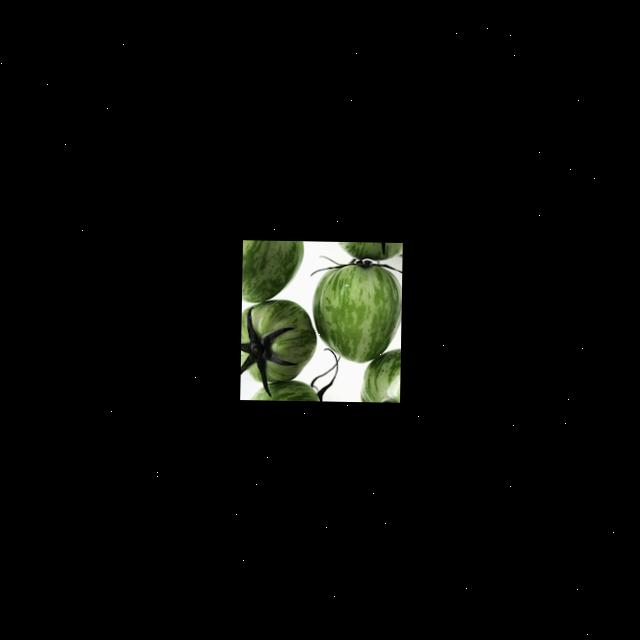tomato: (302, 258, 398, 354)
